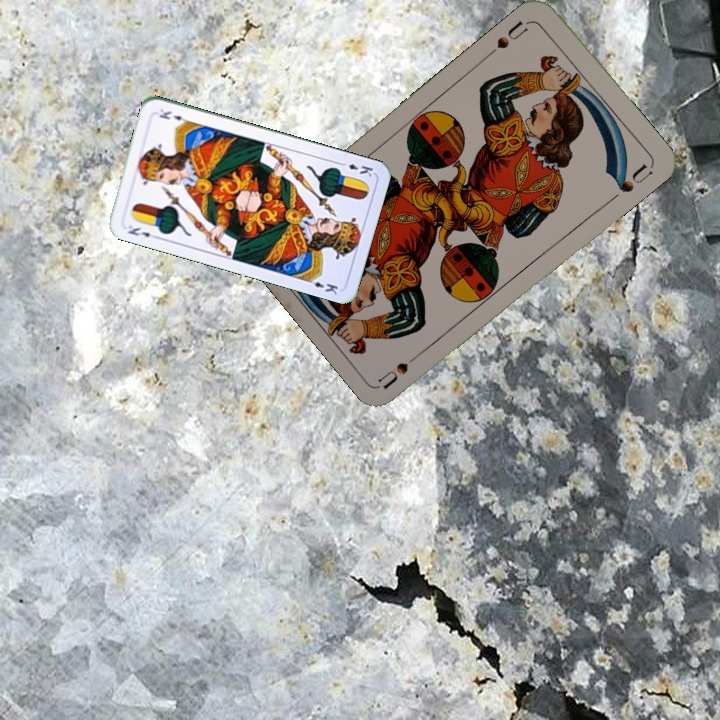EK: (335, 158, 375, 179), (120, 220, 160, 240)
SU: (376, 345, 428, 391), (484, 16, 534, 59)
